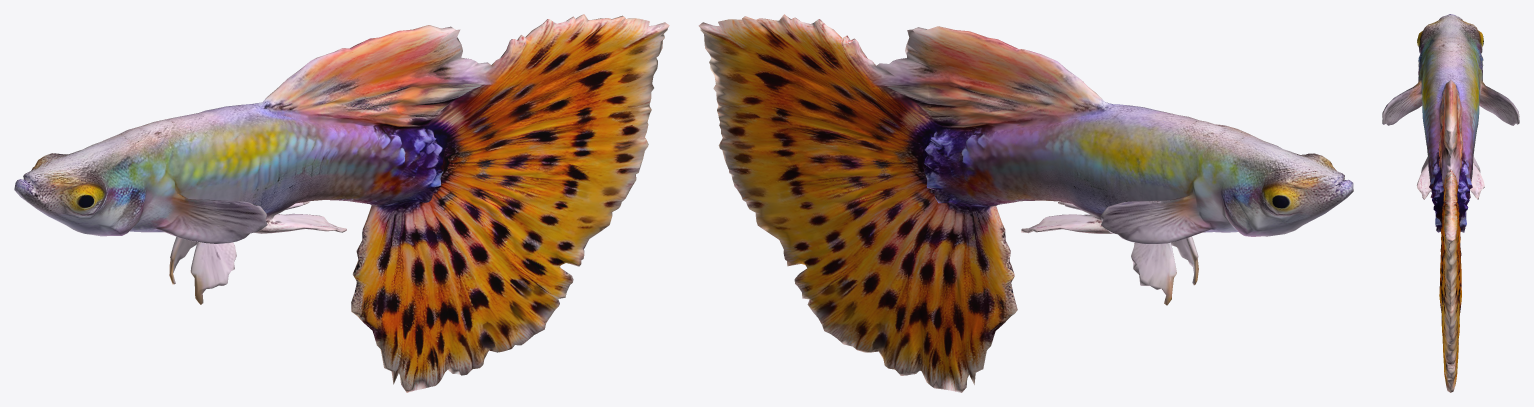
File: fish02.glb
3 renders of one model, left to right at view 1: azimuth 30°, elevation 25°; view 2: azimuth 150°, elevation 25°; view 3: azimuth 270°, elevation 25°, orthographic. The views are drawn at different scales.
Parts seen in each view (by area): view 1: tripo_node_5882521c-597d-4989-8dc7-82cd9a005b97; view 2: tripo_node_5882521c-597d-4989-8dc7-82cd9a005b97; view 3: tripo_node_5882521c-597d-4989-8dc7-82cd9a005b97.
Boxes of the visible parts, bbox=[...] form: tripo_node_5882521c-597d-4989-8dc7-82cd9a005b97: bbox=[14, 14, 669, 392]; tripo_node_5882521c-597d-4989-8dc7-82cd9a005b97: bbox=[698, 14, 1353, 392]; tripo_node_5882521c-597d-4989-8dc7-82cd9a005b97: bbox=[1382, 14, 1519, 392].
Size of the model in its own units: 1 by 0.5347 by 0.2563.
Materials: 1 (1 with a texture image).
